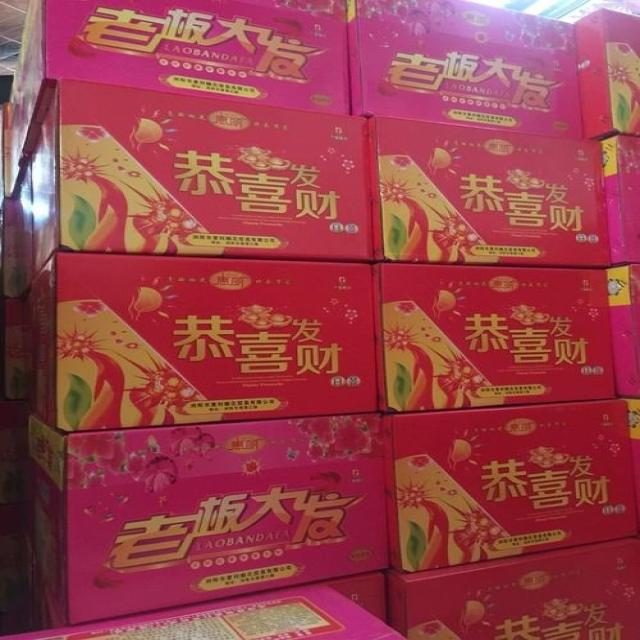box: (30, 412, 392, 627), (30, 77, 374, 276), (26, 252, 380, 433), (11, 0, 351, 168), (383, 398, 639, 573), (369, 115, 612, 268), (373, 262, 617, 413), (346, 0, 582, 138), (387, 536, 639, 639), (0, 582, 407, 639), (575, 8, 639, 140), (602, 134, 639, 265), (607, 263, 639, 398), (323, 570, 387, 624)
